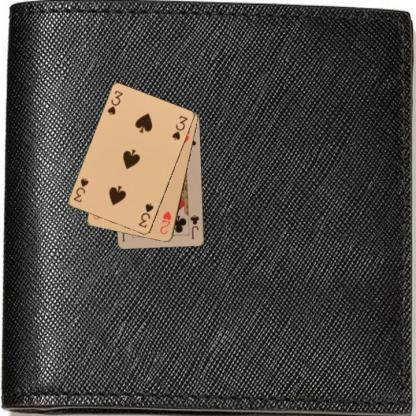2h: (158, 208, 172, 236)
3s: (136, 201, 155, 230), (105, 88, 124, 117)
Jc: (188, 213, 200, 240)
